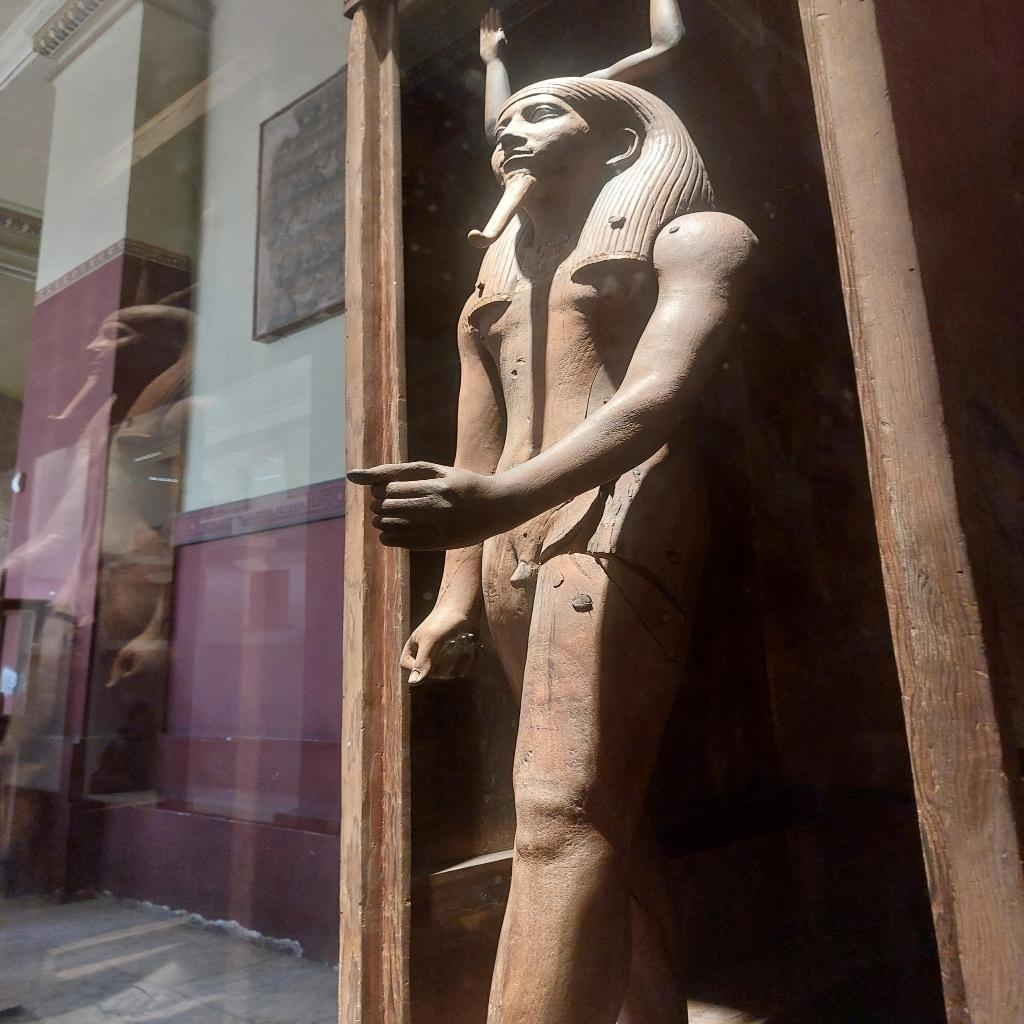Hor I: (345, 4, 765, 1020)
